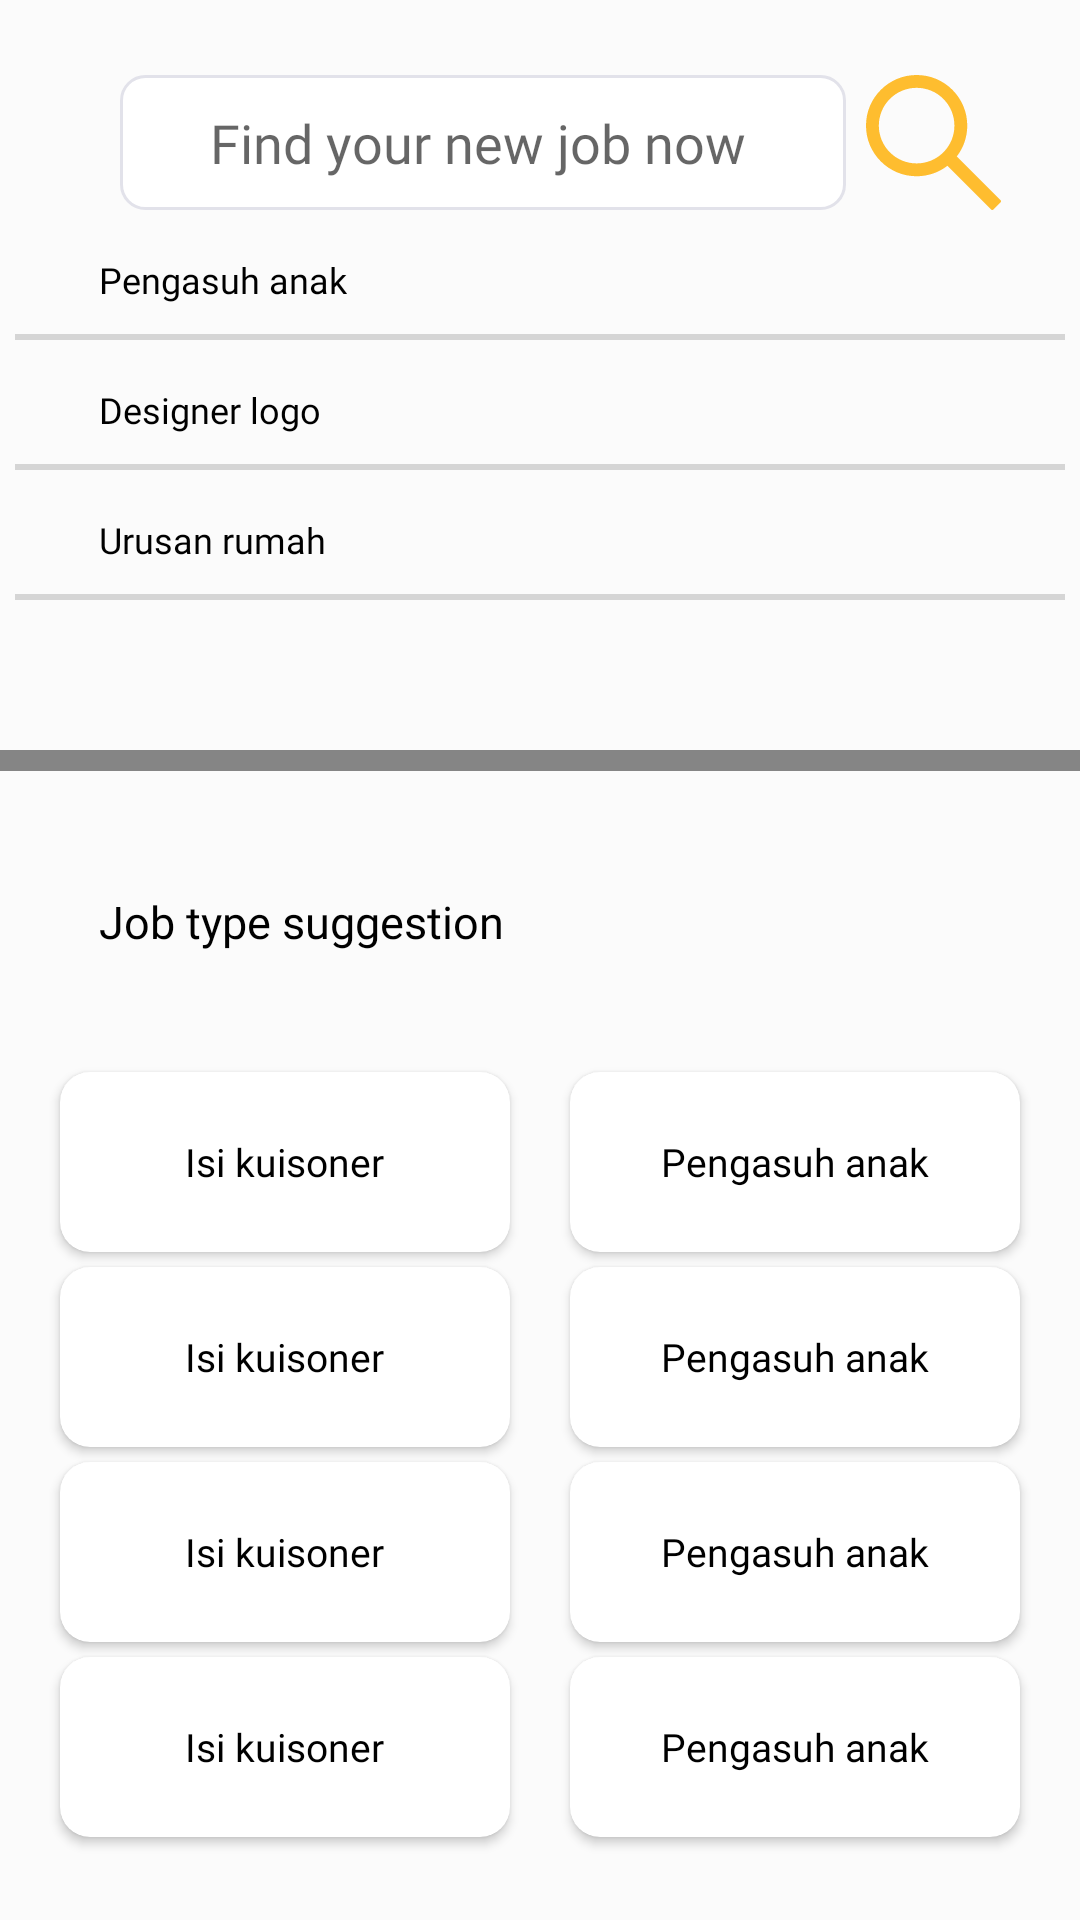

Icons on this 1080 × 1920 Android screen, each with its box as box=[x1, y1, x2, y2]:
search: box=[866, 75, 1001, 210]
